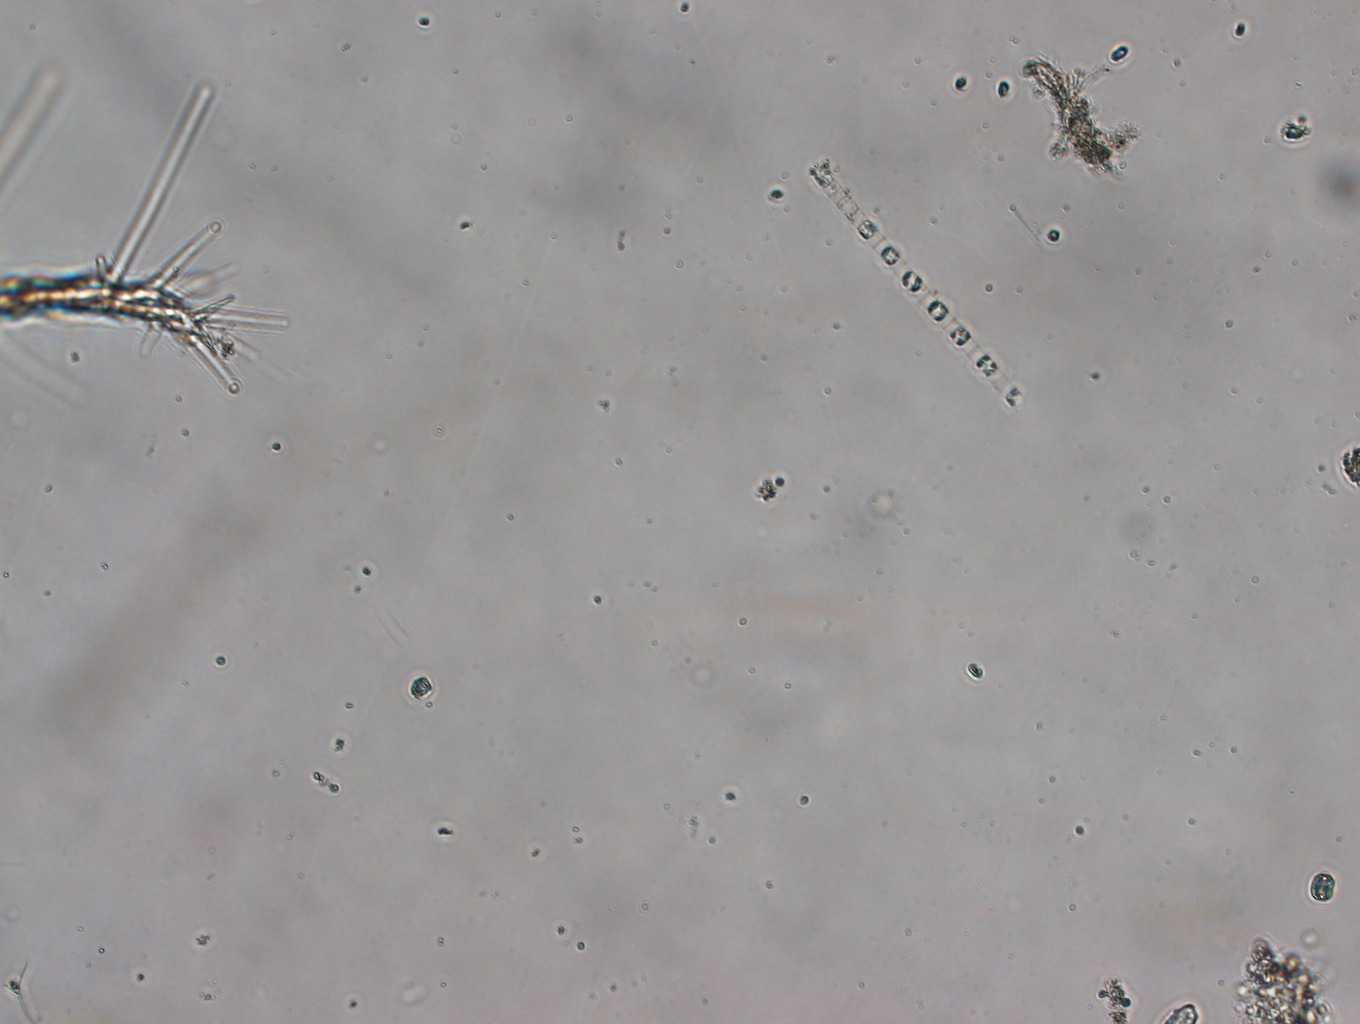skeletonema: (844, 208, 1027, 416)
